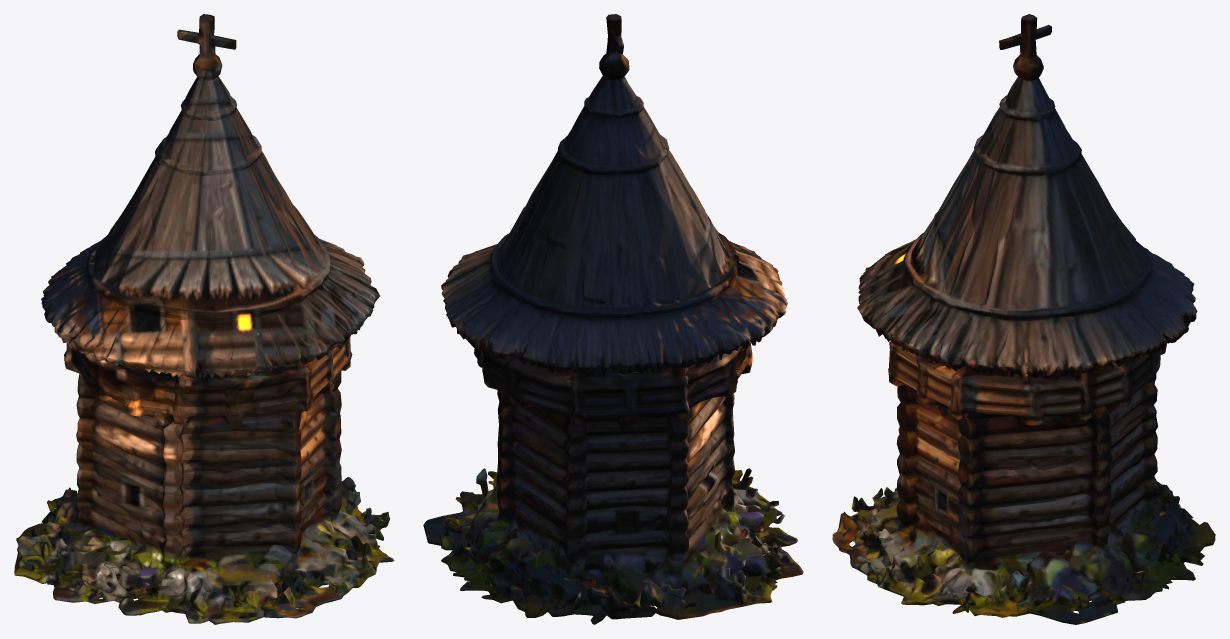
The model's file is corner_tower.glb.
3 views of the same model, side by side, from view 1: azimuth 30°, elevation 25°; view 2: azimuth 150°, elevation 25°; view 3: azimuth 270°, elevation 25° (orthographic).
Visible parts, largest first — view 1: corner_tower; view 2: corner_tower; view 3: corner_tower.
Boxes of the visible parts, x1,y1,x2,y2 form: corner_tower: [14, 14, 394, 624]; corner_tower: [423, 14, 803, 624]; corner_tower: [832, 14, 1215, 624].
Bounding box in the file's own units: 2 × 3 × 1.96.
1 material, 1 textured.
